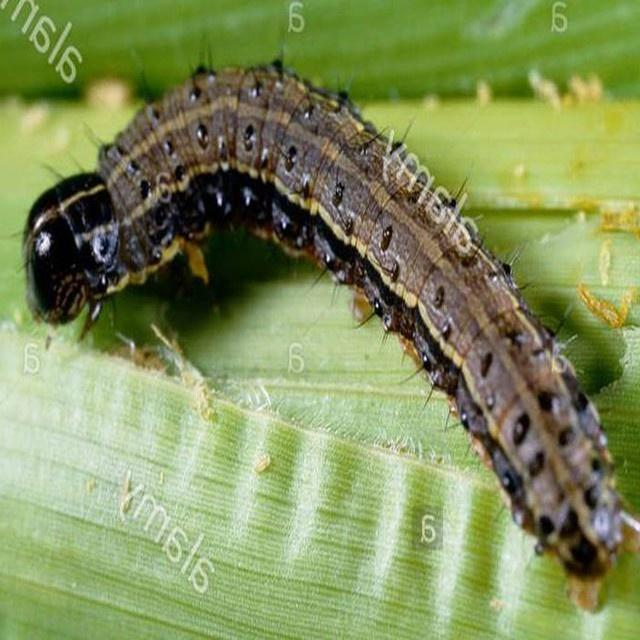worm: (17, 43, 640, 615)
